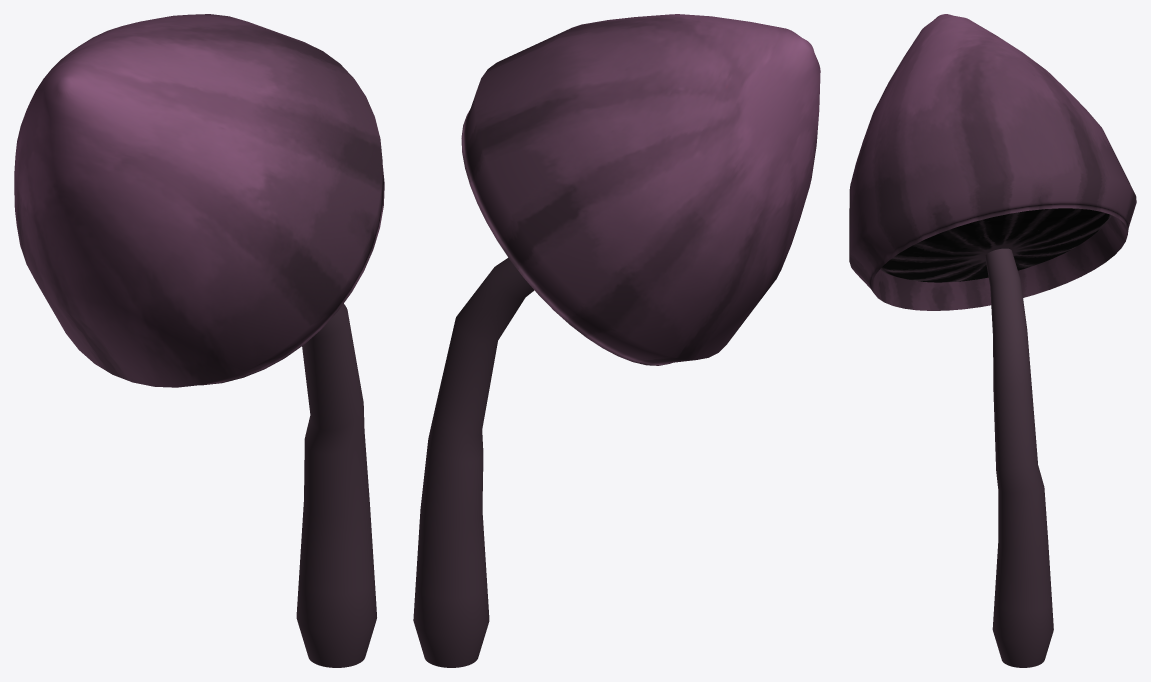
The model's file is Lank Mushroom 3.fbx.
3 views of the same model, side by side, from view 1: azimuth 30°, elevation 25°; view 2: azimuth 150°, elevation 25°; view 3: azimuth 270°, elevation 25° (orthographic). The views are drawn at different scales.
Visible parts, largest first — view 1: pasted__pasted__pasted__pCylinder1; view 2: pasted__pasted__pasted__pCylinder1; view 3: pasted__pasted__pasted__pCylinder1.
Part boxes in pixels (x1=…): pasted__pasted__pasted__pCylinder1: x1=14, y1=14, x2=384, y2=667; pasted__pasted__pasted__pCylinder1: x1=413, y1=14, x2=820, y2=667; pasted__pasted__pasted__pCylinder1: x1=849, y1=14, x2=1136, y2=667.
Bounding box in the file's own units: 1.69 × 3.04 × 1.49.
1 material, 1 textured.
